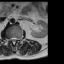CCS_normal: (12, 35, 15, 46)
LFS_stenosis: (17, 36, 19, 42)
LLS_normal: (15, 36, 17, 42)
RFS_stenosis: (8, 36, 10, 42)
RLS_normal: (10, 36, 12, 43)
